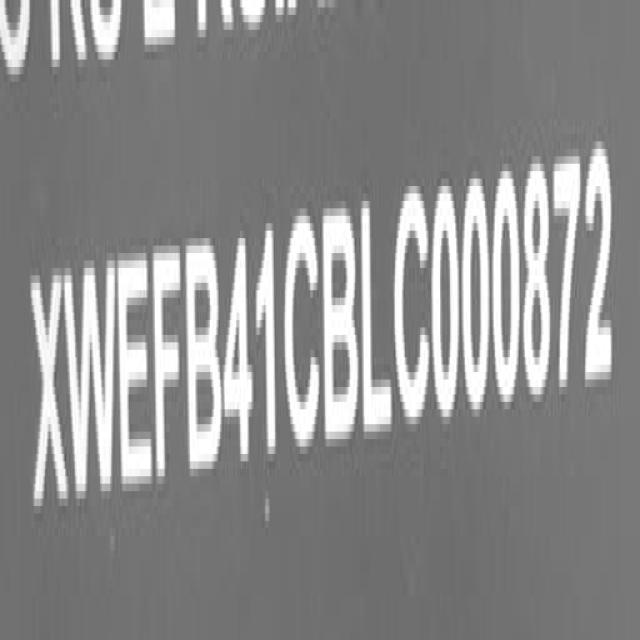0: (460, 171, 490, 419), (432, 182, 462, 428), (493, 170, 522, 413)
1: (256, 219, 278, 470)
2: (587, 139, 618, 395)
4: (224, 230, 253, 476)
7: (552, 149, 582, 404)
8: (523, 160, 552, 406)
B: (324, 200, 360, 453), (186, 239, 221, 484)
C: (282, 205, 321, 459), (396, 188, 433, 436)
E: (118, 247, 154, 504)
F: (154, 240, 186, 500)
L: (362, 198, 393, 446)
W: (66, 253, 119, 510)
X: (32, 266, 68, 528)
